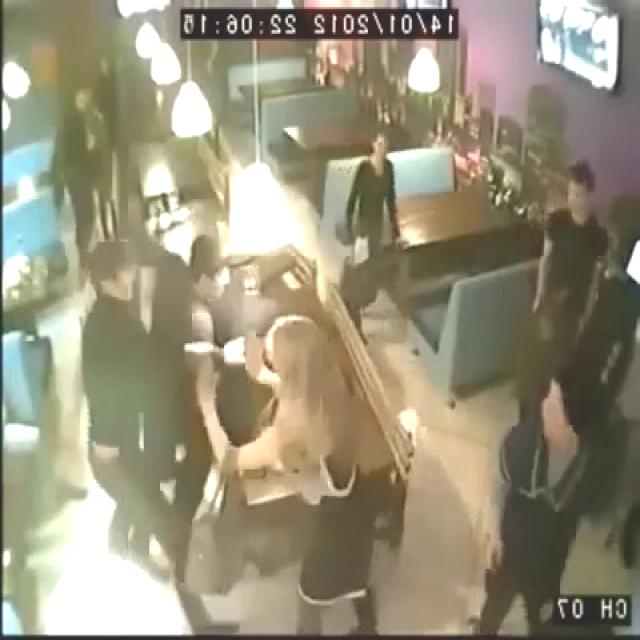fight: (92, 165, 286, 458)
